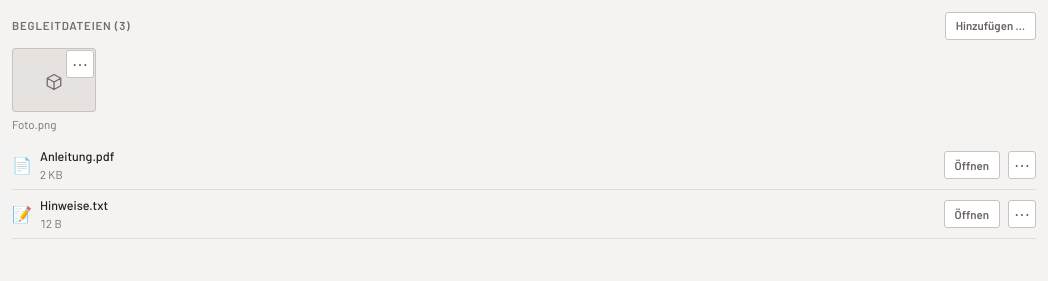
Test: CompanionSection › opens with the default program and shows the container block as a message
Expected: the text "Anleitung.pdf" is shown, x1=40 y1=148 x2=114 y2=164
Click the button with aria-label "Anleitung.pdf öffnen" at [972, 165], box x1=944 y1=151 x2=1000 y2=179
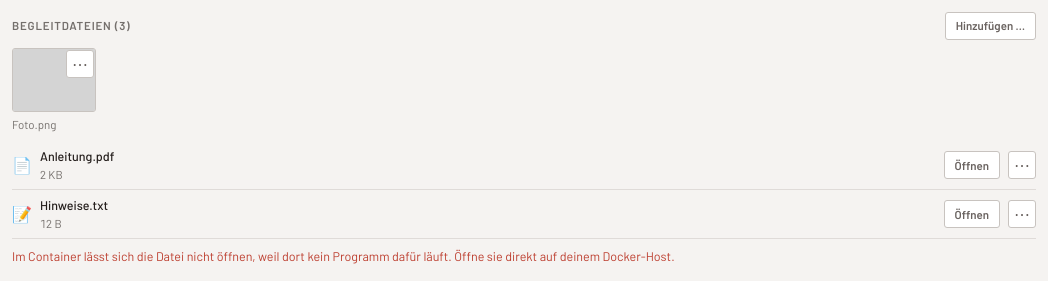
Now the message shows "Im Container lässt sich die Datei nicht öffnen, weil dort kein Programm dafür läuft. Öffne sie direkt auf deinem Docker-Host.", box x1=12 y1=248 x2=675 y2=264
